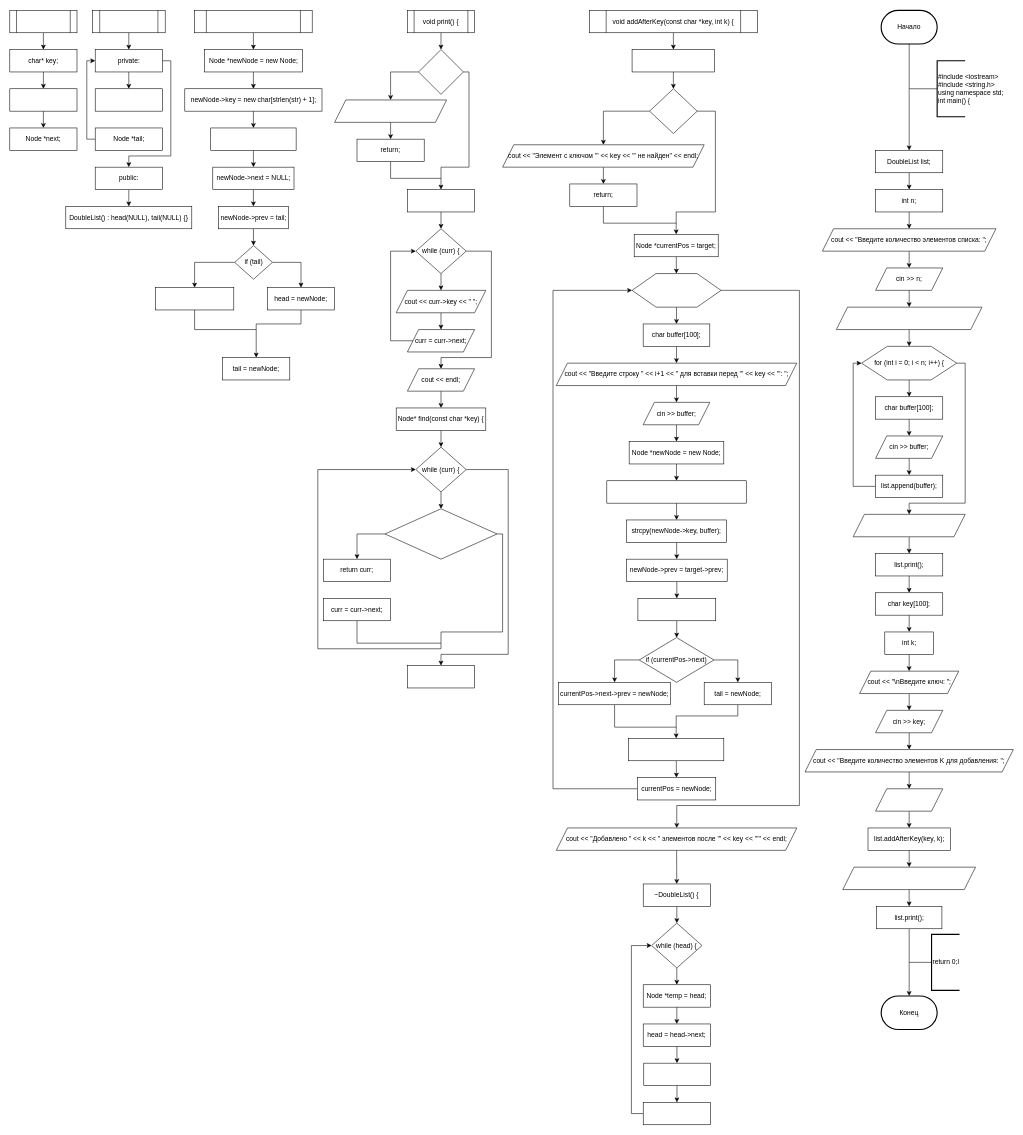
The diagram is 1023 pixels wide and 1135 high, and some of its shapes have lost their labels. The shapes that lost their labels are listed below. From the top down, each one's centre as x and y in pixels, then its label:
(x=43, y=21): struct Node {
(x=128, y=21): class DoubleList {
(x=253, y=21): void append(const char *str) {
(x=440, y=71): if (!head) {
(x=673, y=60): Node *target = find(key);
(x=43, y=99): Node *prev;
(x=128, y=99): Node *head;
(x=390, y=110): cout << "Список пуст" << endl;
(x=673, y=111): if (!target) {
(x=253, y=138): strcpy(newNode->key, str);
(x=441, y=200): Node *curr = head;
(x=194, y=298): tail->next = newNode;
(x=676, y=290): for (int i = 0; i < k; i++) {
(x=909, y=318): cout << "Введите строки (ключи):" << endl;
(x=676, y=491): newNode->key = new char[strlen(buffer) + 1];
(x=440, y=533): if (strcmp(curr->key, key) == 0)
(x=909, y=525): cout << "\nИсходный список: ";
(x=676, y=609): newNode->next = target;
(x=441, y=676): return NULL;
(x=676, y=749): currentPos->next = newNode;
(x=909, y=799): cin >> k;
(x=909, y=878): cout << "Список после добавления: ";
(x=676, y=1074): delete[] temp->key;
(x=676, y=1113): delete temp;
